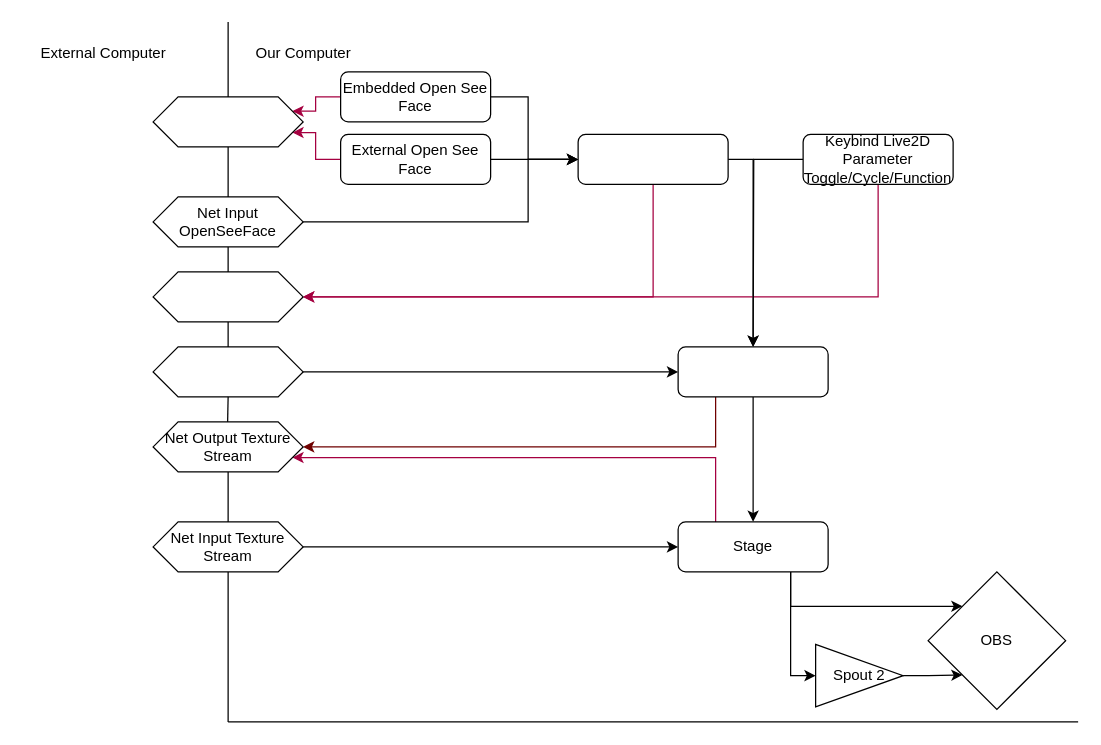
This 1101x745 diagram has some shape labels left out. The shapes that lost their labels are listed below. From the top down, each one's centre as x and y in pixels, then its label:
point 227,121: Net Output OpenSeeFace
point 652,158: Transformer <OpenSeeFace, Live2D>
point 227,296: Net Output Live2D Parameters
point 227,371: Net Input Live2D Parameters
point 752,371: Live2D Cubisim
